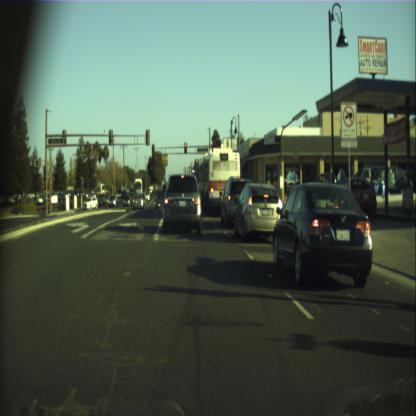Red: (152, 143, 154, 156), (184, 142, 186, 152)
